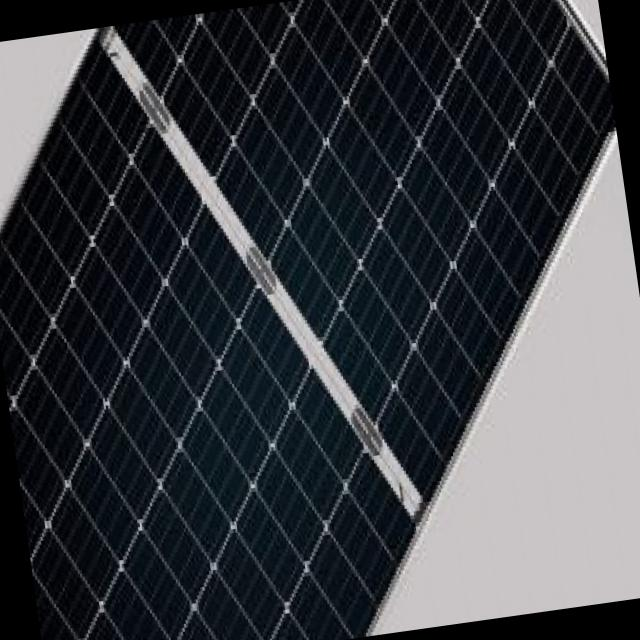no faulty: (0, 0, 615, 640)
